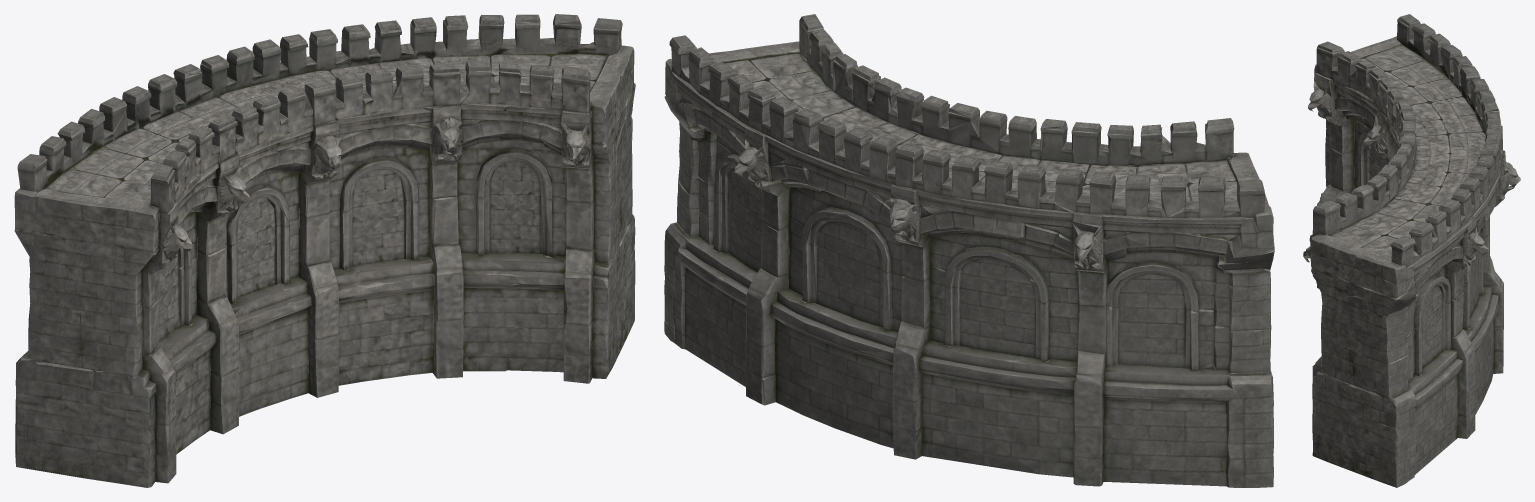
The model's file is gargoyle_wall.glb.
3 renders of one model, left to right at view 1: azimuth 30°, elevation 25°; view 2: azimuth 150°, elevation 25°; view 3: azimuth 270°, elevation 25°, orthographic. The views are drawn at different scales.
Parts seen in each view (by area): view 1: gargoyle_wall; view 2: gargoyle_wall; view 3: gargoyle_wall.
Boxes of the visible parts, x1=… form: gargoyle_wall: x1=14, y1=14, x2=635, y2=487; gargoyle_wall: x1=664, y1=14, x2=1274, y2=487; gargoyle_wall: x1=1303, y1=14, x2=1520, y2=487.
Size of the model in its own units: 1.9 by 0.9039 by 0.7315.
Materials: 1 (1 with a texture image).
